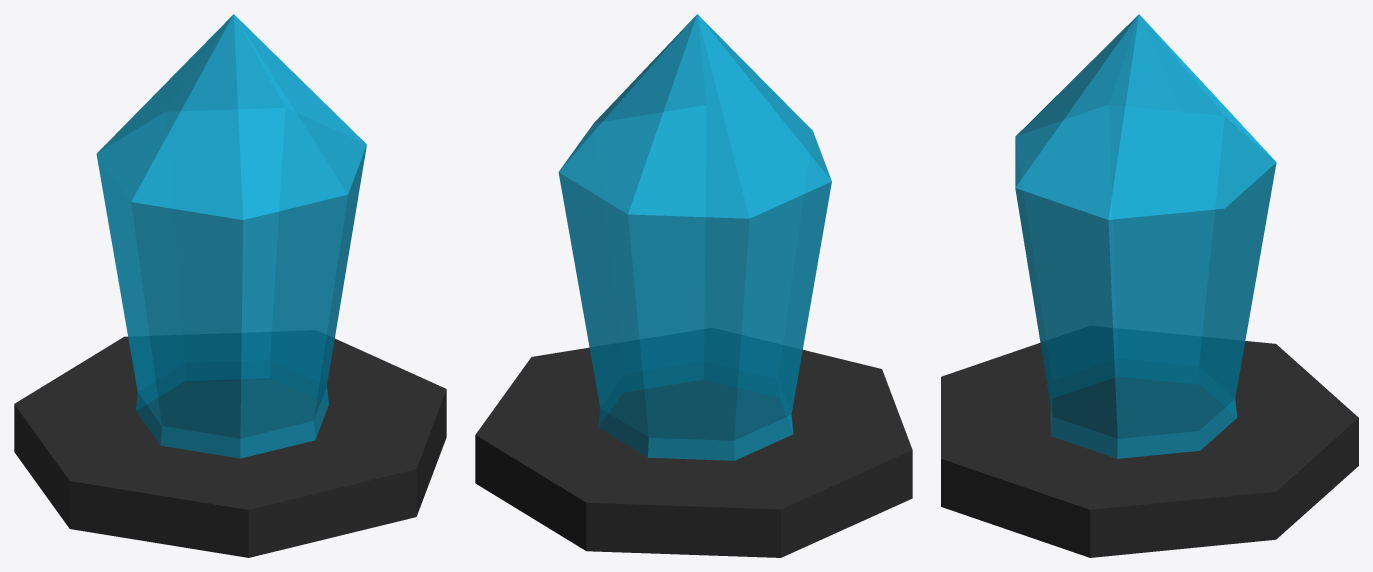
Rendered from Switch.fbx.
3 views of the same model, side by side, from view 1: azimuth 30°, elevation 25°; view 2: azimuth 150°, elevation 25°; view 3: azimuth 270°, elevation 25° (orthographic).
Visible parts, largest first — view 1: Switch:Mesh; view 2: Switch:Mesh; view 3: Switch:Mesh.
Part boxes in pixels (x1,y1,x2,y2): Switch:Mesh: (14, 14, 446, 557); Switch:Mesh: (475, 14, 912, 557); Switch:Mesh: (941, 14, 1358, 557).
Size of the model in its own units: 1.15 by 1.32 by 1.1.
